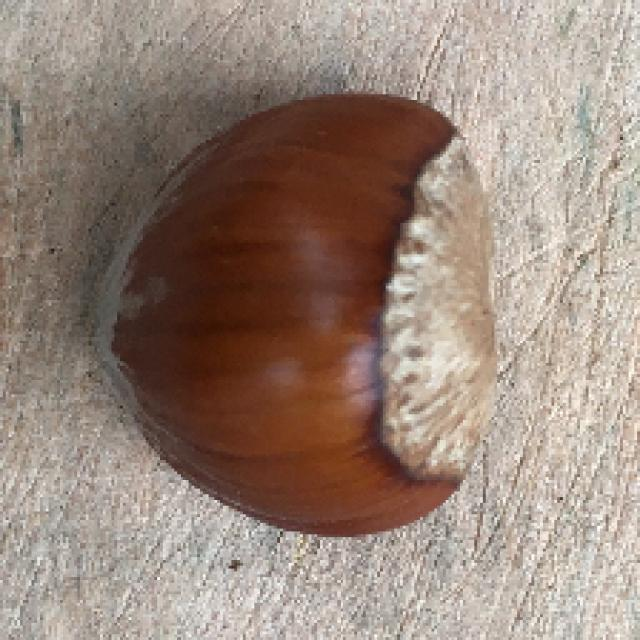qualityHazelnut: (81, 90, 516, 545)
